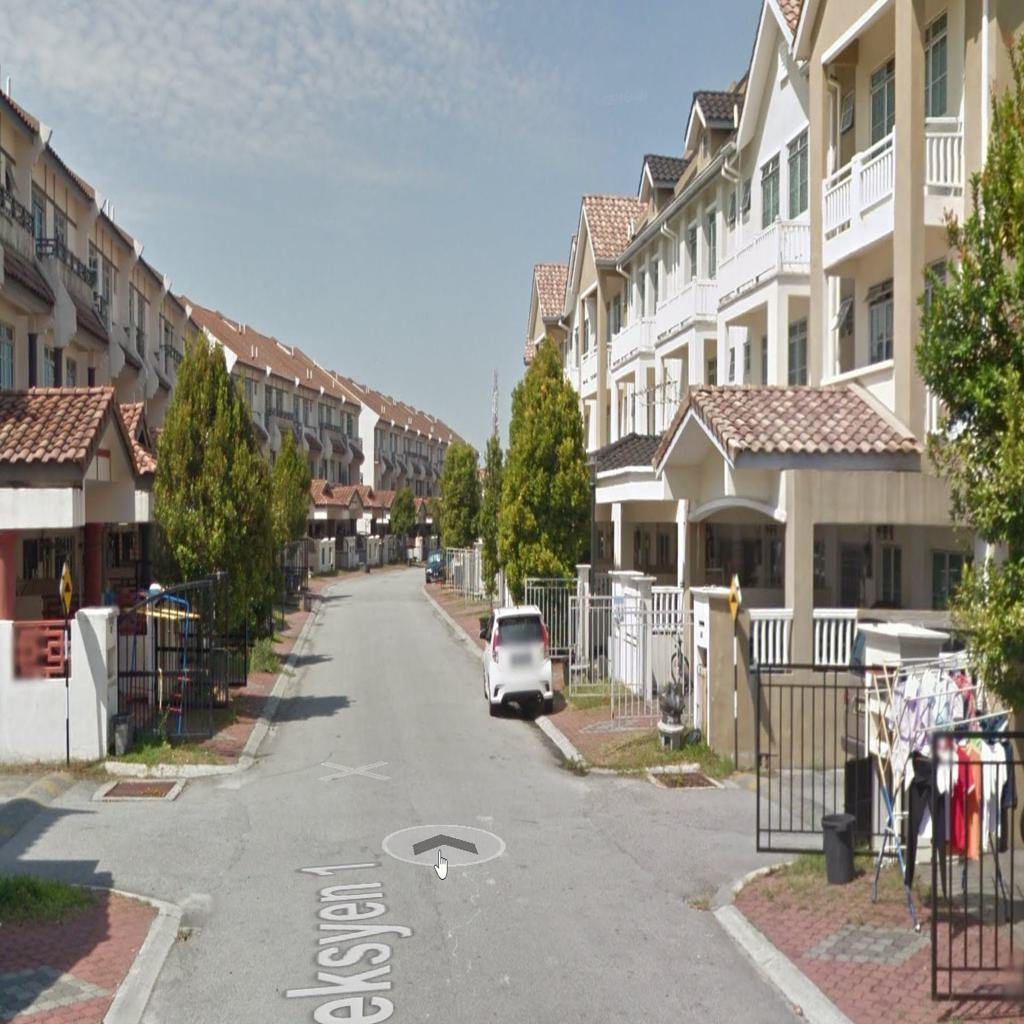Junction: (588, 706, 875, 923), (8, 727, 299, 935)
